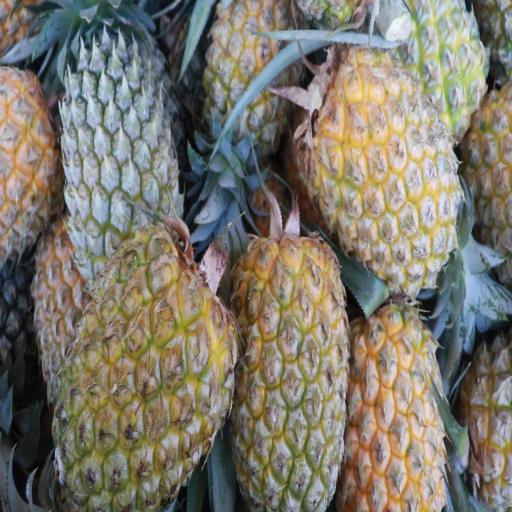------------------------------: (202, 2, 296, 152), (34, 220, 93, 391)
Pineapple - v8 v1: (58, 220, 235, 512), (316, 50, 454, 287), (234, 239, 349, 507), (350, 293, 441, 507), (0, 58, 63, 238)
